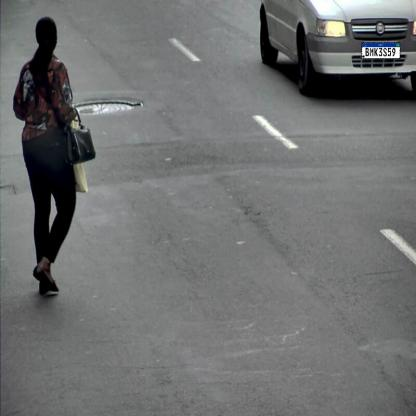PlacaM: (362, 42, 400, 59)
